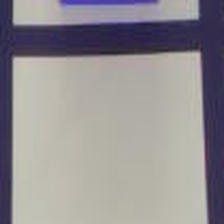empty: (14, 59, 203, 224)
